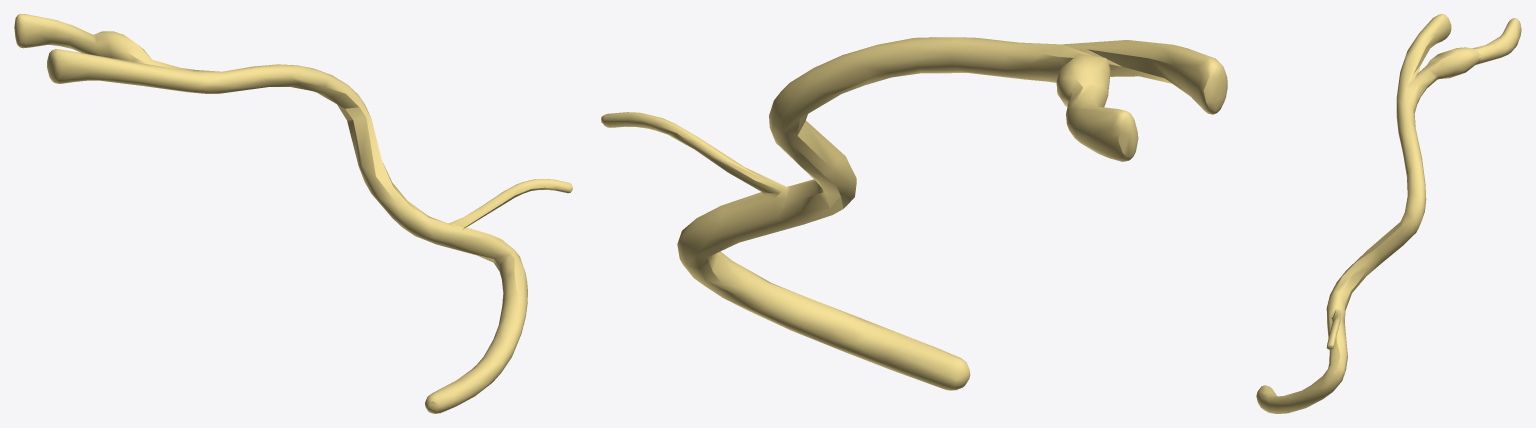
The model's file is fma7005_fj4262.glb.
3 views of the same model, side by side, from view 1: azimuth 30°, elevation 25°; view 2: azimuth 150°, elevation 25°; view 3: azimuth 270°, elevation 25° (orthographic). The views are drawn at different scales.
Parts seen in each view (by area): view 1: FMA7005_FJ4262; view 2: FMA7005_FJ4262; view 3: FMA7005_FJ4262.
Part boxes in pixels (<box>): FMA7005_FJ4262: <box>14,14,572,413</box>; FMA7005_FJ4262: <box>601,37,1227,390</box>; FMA7005_FJ4262: <box>1256,14,1521,413</box>.
Bounding box in the file's own units: 0.0363 × 0.0268 × 0.0228.
